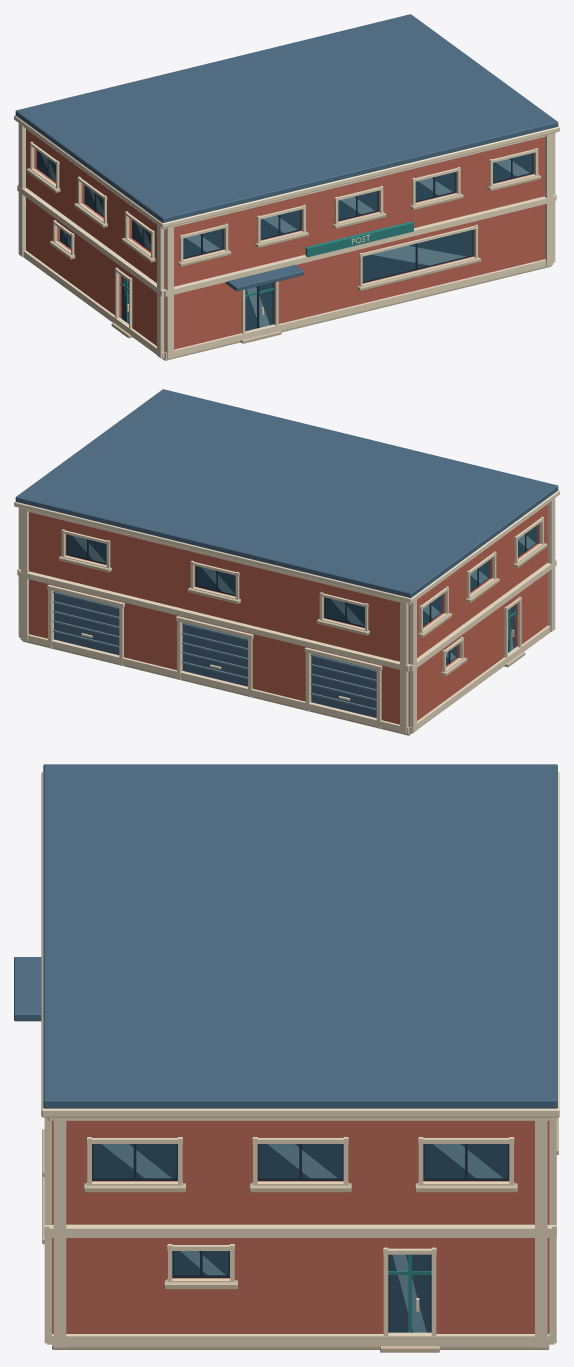
Rendered from postal_sorting_building.glb.
3 views of the same model, one above another, from view 1: azimuth 30°, elevation 25°; view 2: azimuth 150°, elevation 25°; view 3: azimuth 270°, elevation 25° (orthographic). The views are drawn at different scales.
Parts seen in each view (by area): view 1: PostalSortingBuilding_StaticMesh; view 2: PostalSortingBuilding_StaticMesh; view 3: PostalSortingBuilding_StaticMesh.
Part boxes in pixels (bbox=[...]): PostalSortingBuilding_StaticMesh: bbox=[14, 14, 559, 360]; PostalSortingBuilding_StaticMesh: bbox=[14, 389, 559, 735]; PostalSortingBuilding_StaticMesh: bbox=[14, 764, 559, 1352].
Bounding box in the file's own units: 19.32 × 6.76 × 13.18.
